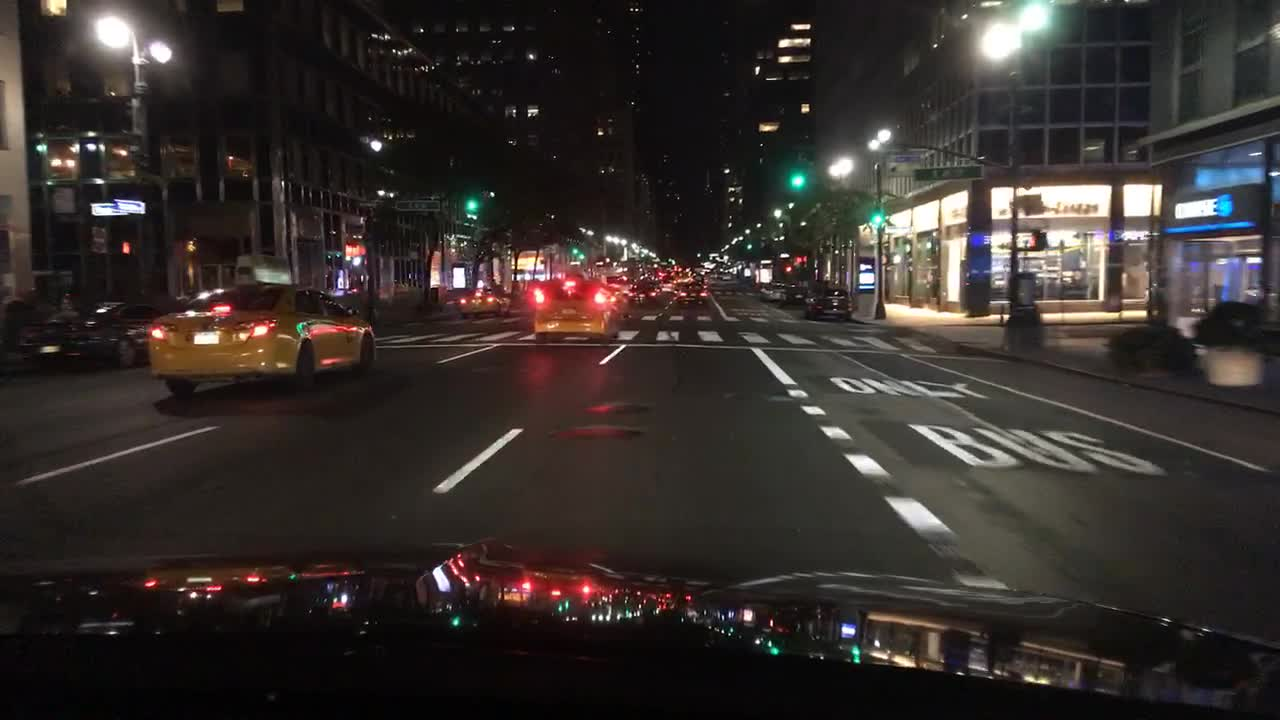car: (148, 278, 377, 399), (16, 299, 180, 372), (529, 278, 623, 346), (458, 287, 512, 321), (804, 287, 854, 321), (675, 280, 709, 306), (605, 275, 639, 298), (630, 273, 661, 294), (761, 282, 789, 302), (786, 286, 808, 304), (654, 266, 673, 283), (670, 272, 692, 286), (717, 272, 735, 279)
traffic light: (789, 166, 804, 189), (465, 191, 477, 216), (872, 206, 883, 225), (571, 247, 586, 258)
traffic sign: (918, 164, 985, 182), (395, 198, 441, 212), (218, 0, 244, 16), (888, 151, 924, 162), (708, 251, 725, 256)
